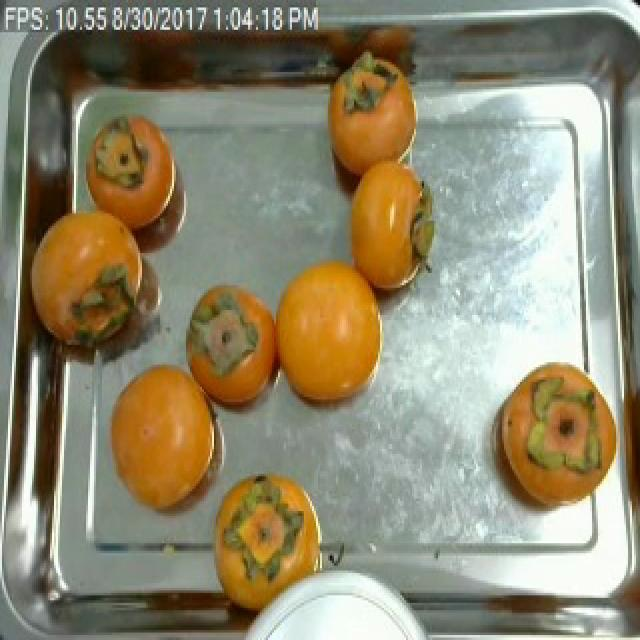Fruit: (22, 188, 162, 394), (482, 352, 616, 531), (264, 240, 388, 427), (102, 348, 226, 524), (212, 459, 334, 613), (174, 270, 288, 432), (78, 97, 190, 248), (314, 57, 430, 191)
